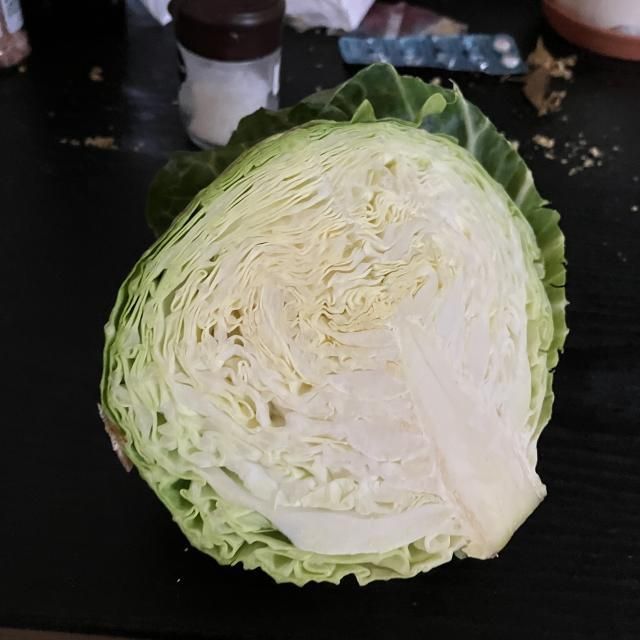cabbage: (87, 60, 570, 589)
